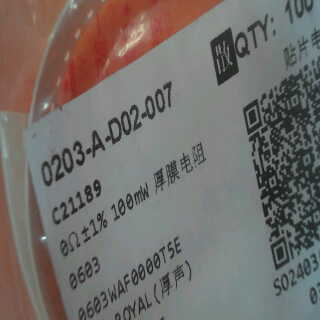0R: (60, 209, 111, 295)
